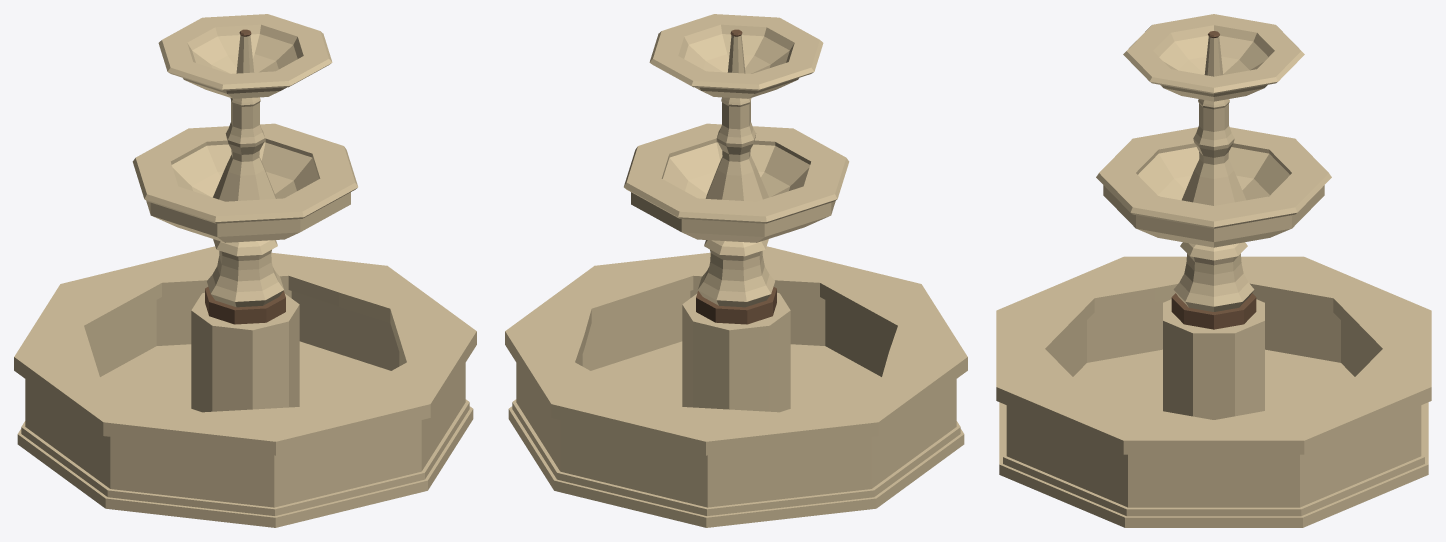
Rendered from low-poly_parisienne_water_fountain.glb.
The picture shows the model from 3 angles, left to right: view 1: azimuth 30°, elevation 25°; view 2: azimuth 150°, elevation 25°; view 3: azimuth 270°, elevation 25°; orthographic projection.
Parts seen in each view (by area): view 1: Cylinder_0, Cylinder.004_4, Cylinder.005_5, Cylinder.002_1, Cylinder.001_3, Cylinder.003_2; view 2: Cylinder_0, Cylinder.004_4, Cylinder.005_5, Cylinder.002_1, Cylinder.001_3, Cylinder.003_2; view 3: Cylinder_0, Cylinder.004_4, Cylinder.005_5, Cylinder.002_1, Cylinder.001_3, Cylinder.003_2.
Boxes of the visible parts, x1=… form: Cylinder_0: x1=14, y1=246, x2=476, y2=527; Cylinder.004_4: x1=132, y1=97, x2=357, y2=256; Cylinder.005_5: x1=158, y1=14, x2=332, y2=98; Cylinder.002_1: x1=191, y1=292, x2=299, y2=412; Cylinder.001_3: x1=207, y1=249, x2=283, y2=307; Cylinder.003_2: x1=205, y1=286, x2=285, y2=324; Cylinder_0: x1=505, y1=246, x2=967, y2=527; Cylinder.004_4: x1=624, y1=97, x2=849, y2=256; Cylinder.005_5: x1=649, y1=14, x2=823, y2=98; Cylinder.002_1: x1=682, y1=292, x2=790, y2=412; Cylinder.001_3: x1=698, y1=249, x2=774, y2=307; Cylinder.003_2: x1=696, y1=286, x2=776, y2=324; Cylinder_0: x1=996, y1=256, x2=1431, y2=527; Cylinder.004_4: x1=1096, y1=99, x2=1331, y2=260; Cylinder.005_5: x1=1123, y1=14, x2=1304, y2=101; Cylinder.002_1: x1=1163, y1=299, x2=1264, y2=419; Cylinder.001_3: x1=1173, y1=254, x2=1254, y2=311; Cylinder.003_2: x1=1171, y1=293, x2=1256, y2=329.
Size of the model in its own units: 5.67 by 5.81 by 5.67.
Materials: 6 (6 with a texture image).
